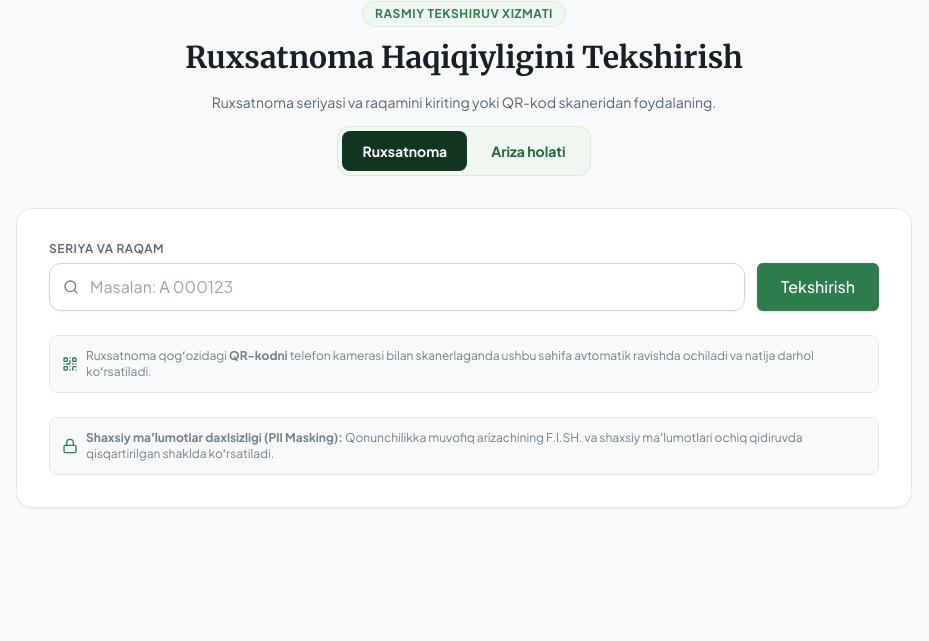
VerifyPage — one box for the permit number › reads «a 123» typed on a Latin keyboard as the Cyrillic series and the number
Type "a 123" into the field labelled "Seriya va raqam".
click(397, 287); type("a 123")  # box [49,263,745,311]
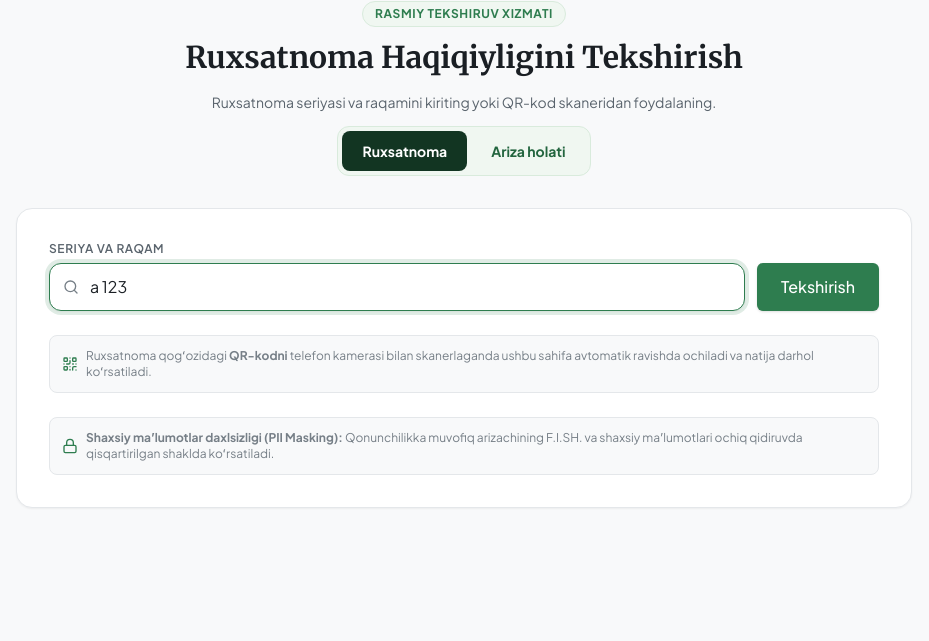
Click the button named "tekshirish".
click(818, 287)  # box [757,263,879,311]
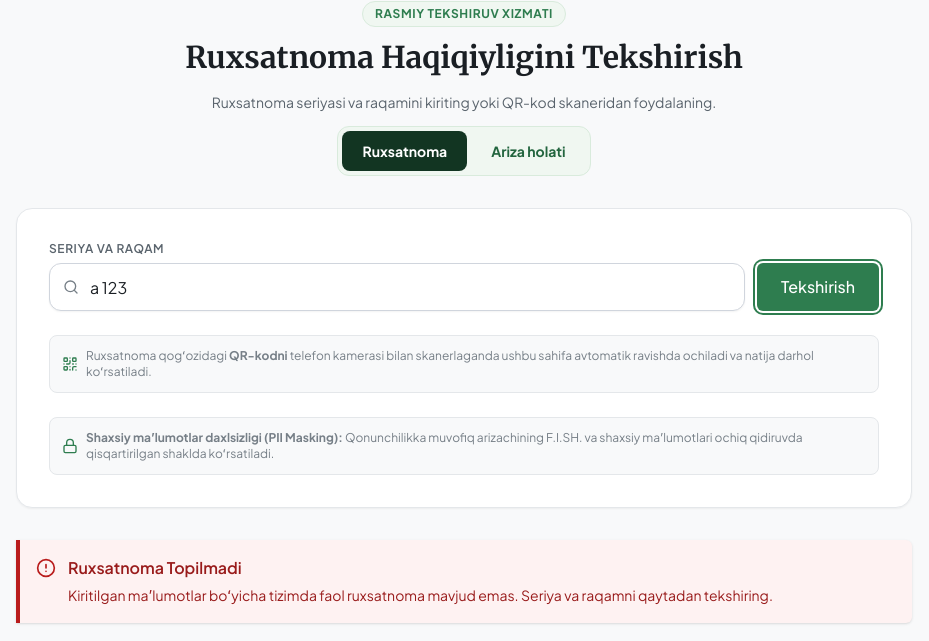
Result: the heading "Ruxsatnoma Topilmadi" is shown at [68,557,242,578]
